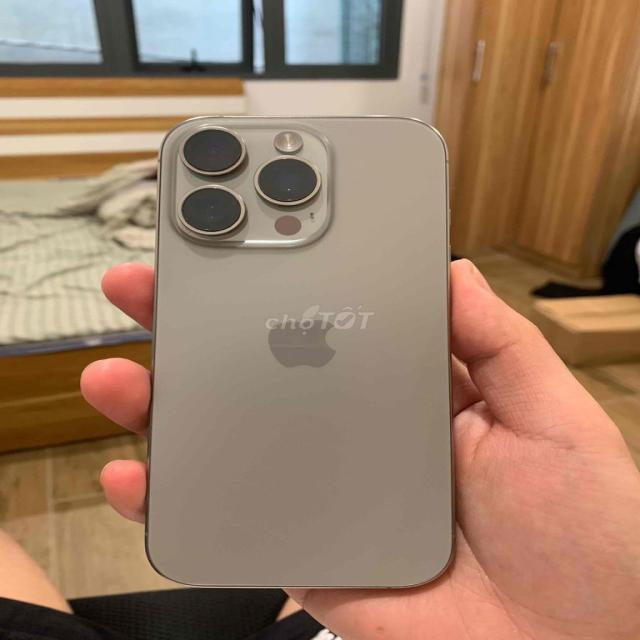gen_16: (145, 116, 454, 588)
